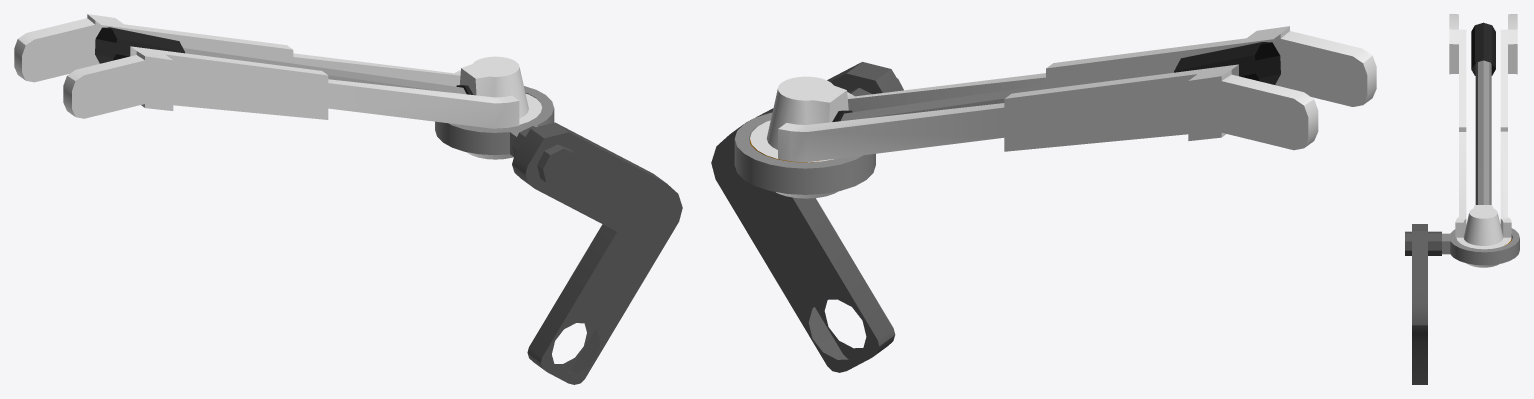
File: pata_del_izq.obj
The picture shows the model from 3 angles, left to right: view 1: azimuth 30°, elevation 25°; view 2: azimuth 150°, elevation 25°; view 3: azimuth 270°, elevation 25°; orthographic projection. The views are drawn at different scales.
Parts seen in each view (by area): view 1: pata_del_izq; view 2: pata_del_izq; view 3: pata_del_izq.
Part boxes in pixels (x1=…): pata_del_izq: x1=14, y1=14, x2=682, y2=384; pata_del_izq: x1=711, y1=26, x2=1376, y2=372; pata_del_izq: x1=1405, y1=14, x2=1519, y2=384.
Bounding box in the file's own units: 4.76 × 3.23 × 1.38.
